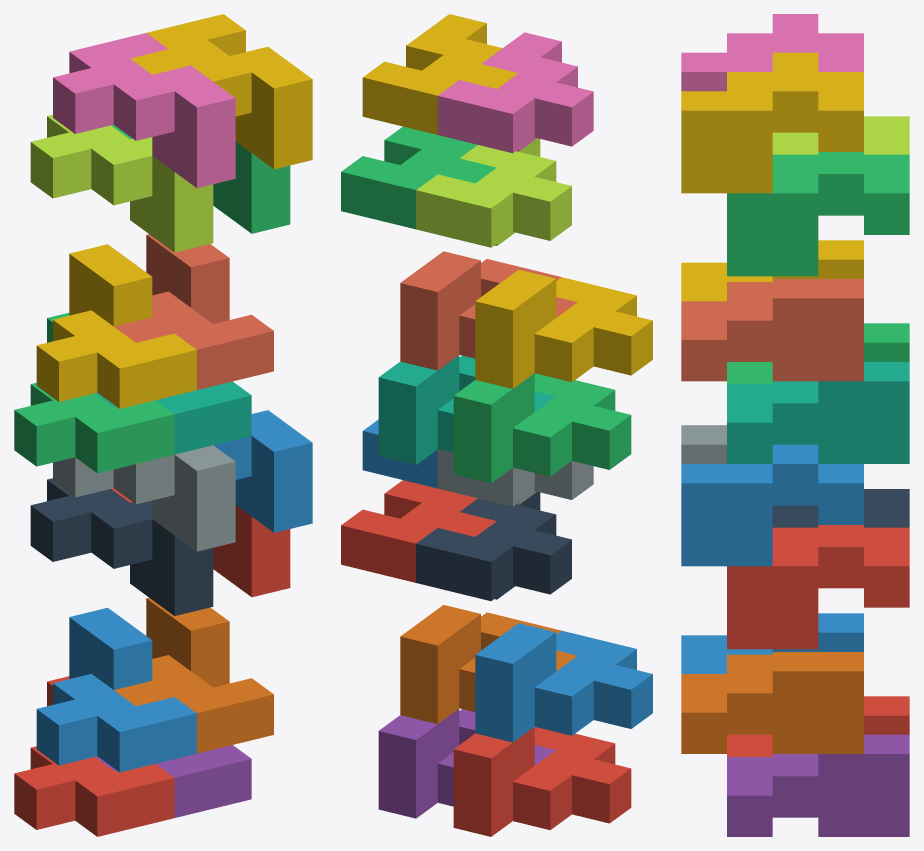
The model's file is tiling.obj.
The picture shows the model from 3 angles, left to right: view 1: azimuth 30°, elevation 25°; view 2: azimuth 150°, elevation 25°; view 3: azimuth 270°, elevation 25°; orthographic projection. The views are drawn at different scales.
Visible parts, largest first — view 1: copy_2_domain_4, copy_1_domain_2, copy_1_domain_4, copy_2_domain_8, copy_2_domain_1, copy_2_domain_3, copy_1_domain_8, copy_1_domain_6, copy_2_domain_2, copy_1_domain_3, copy_1_domain_1, copy_2_domain_6 (+4 smaller); view 2: copy_1_domain_2, copy_1_domain_4, copy_1_domain_1, copy_1_domain_3, copy_2_domain_4, copy_2_domain_1, copy_2_domain_3, copy_2_domain_8, copy_1_domain_8, copy_1_domain_6, copy_2_domain_7, copy_2_domain_5 (+4 smaller); view 3: copy_2_domain_8, copy_1_domain_8, copy_1_domain_6, copy_2_domain_5, copy_2_domain_7, copy_1_domain_5, copy_2_domain_6, copy_1_domain_7, copy_2_domain_4, copy_1_domain_4, copy_1_domain_2, copy_2_domain_1 (+4 smaller).
Boxes of the visible parts, left/top/right/bottom form: copy_2_domain_4: left=53, top=33, right=235, bottom=187; copy_1_domain_2: left=36, top=607, right=196, bottom=772; copy_1_domain_4: left=36, top=244, right=196, bottom=408; copy_2_domain_8: left=130, top=14, right=312, bottom=169; copy_2_domain_1: left=30, top=478, right=213, bottom=615; copy_2_domain_3: left=30, top=114, right=213, bottom=252; copy_1_domain_8: left=114, top=234, right=273, bottom=389; copy_1_domain_6: left=114, top=597, right=273, bottom=753; copy_2_domain_2: left=53, top=445, right=235, bottom=551; copy_1_domain_3: left=14, top=312, right=174, bottom=473; copy_1_domain_1: left=14, top=676, right=174, bottom=836; copy_2_domain_6: left=213, top=410, right=312, bottom=532; copy_1_domain_2: left=475, top=623, right=652, bottom=742; copy_1_domain_4: left=475, top=269, right=652, bottom=388; copy_1_domain_1: left=453, top=727, right=631, bottom=836; copy_1_domain_3: left=453, top=373, right=631, bottom=483; copy_2_domain_4: left=437, top=32, right=593, bottom=153; copy_2_domain_1: left=416, top=491, right=571, bottom=600; copy_2_domain_3: left=416, top=138, right=571, bottom=247; copy_2_domain_8: left=362, top=14, right=518, bottom=134; copy_1_domain_8: left=400, top=251, right=577, bottom=370; copy_1_domain_6: left=400, top=605, right=577, bottom=724; copy_2_domain_7: left=341, top=126, right=496, bottom=229; copy_2_domain_5: left=341, top=480, right=496, bottom=582; copy_2_domain_8: left=681, top=52, right=863, bottom=193; copy_1_domain_8: left=681, top=279, right=863, bottom=381; copy_1_domain_6: left=681, top=652, right=863, bottom=753; copy_2_domain_5: left=727, top=525, right=909, bottom=649; copy_2_domain_7: left=727, top=152, right=909, bottom=276; copy_1_domain_5: left=727, top=734, right=909, bottom=836; copy_2_domain_6: left=681, top=444, right=863, bottom=566; copy_1_domain_7: left=727, top=362, right=909, bottom=463; copy_2_domain_4: left=681, top=14, right=863, bottom=91; copy_1_domain_4: left=681, top=240, right=863, bottom=301; copy_1_domain_2: left=681, top=613, right=863, bottom=673; copy_2_domain_1: left=772, top=489, right=909, bottom=527.
Size of the model in its own units: 6 by 18 by 5.
